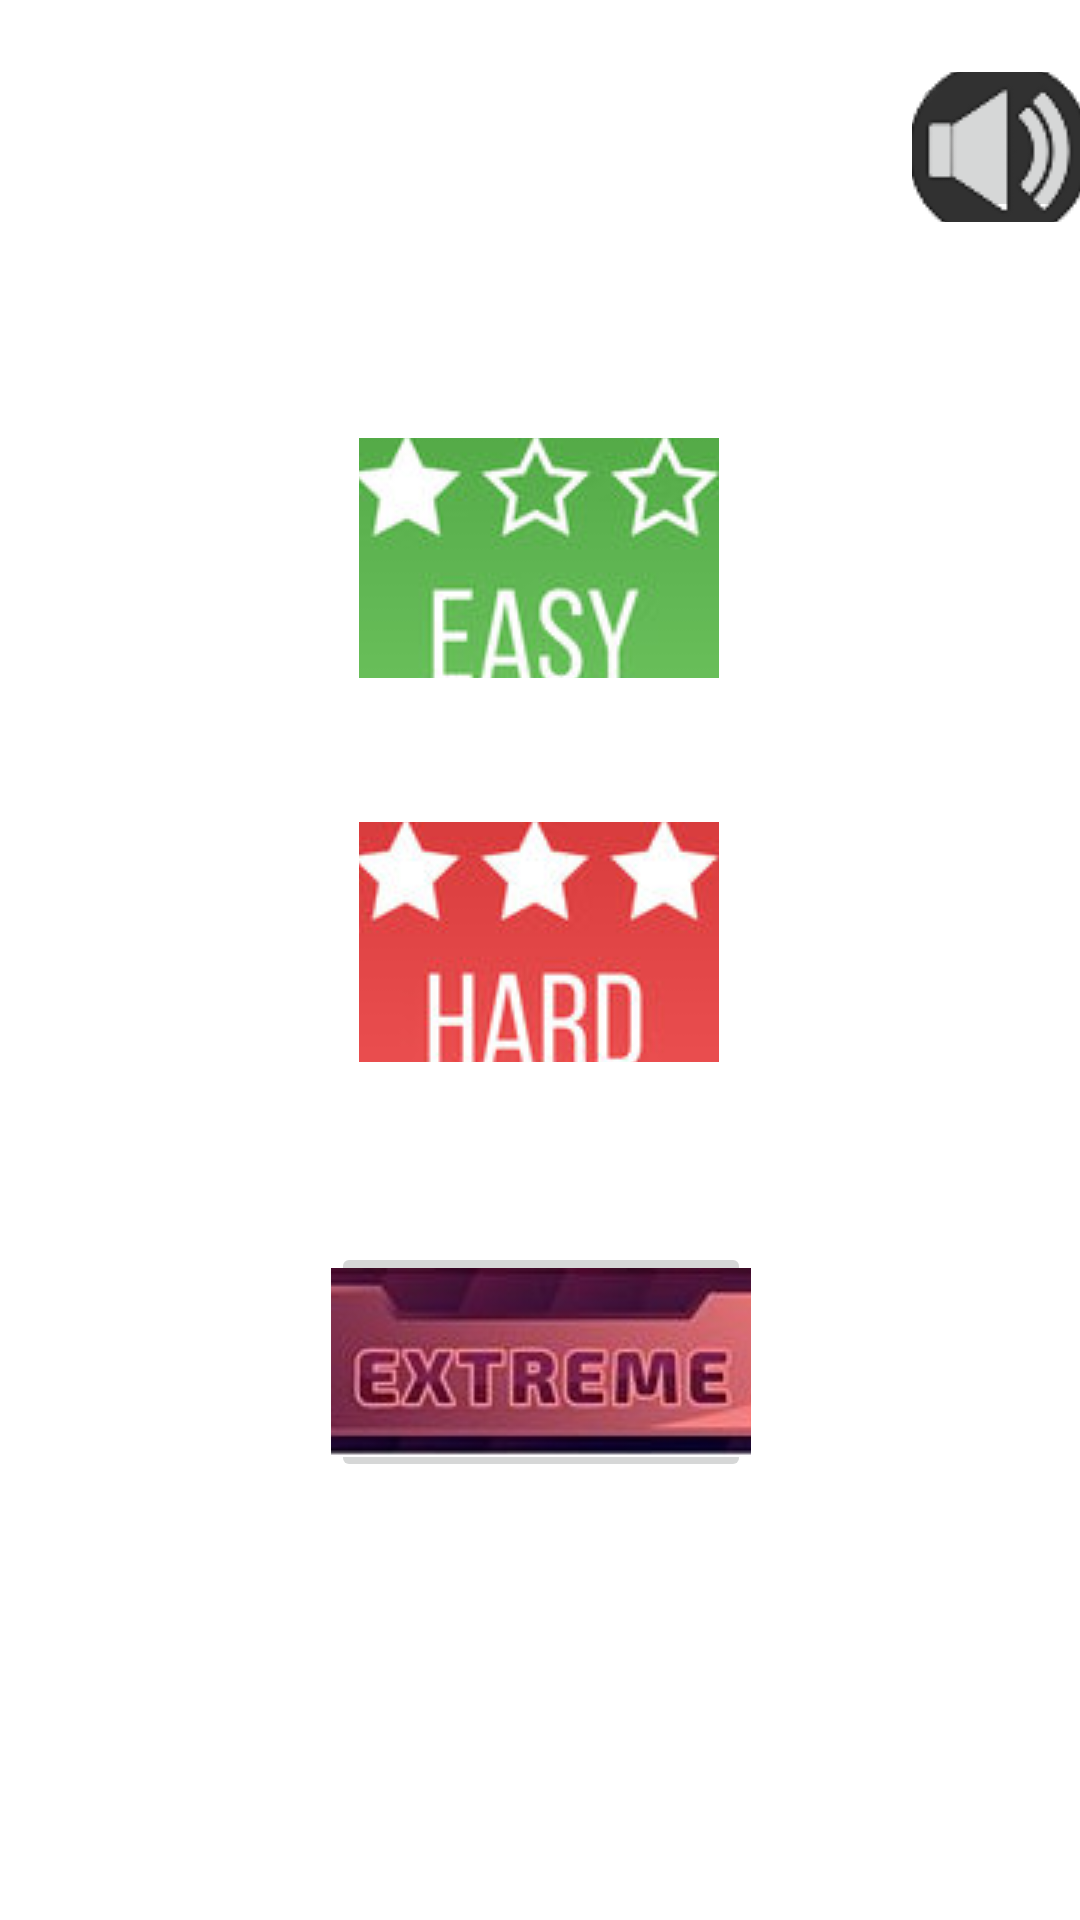

Point at icon controls on the screen. Image size 1080×1920, points as point (x, y).
unmuted: point (996, 147)
